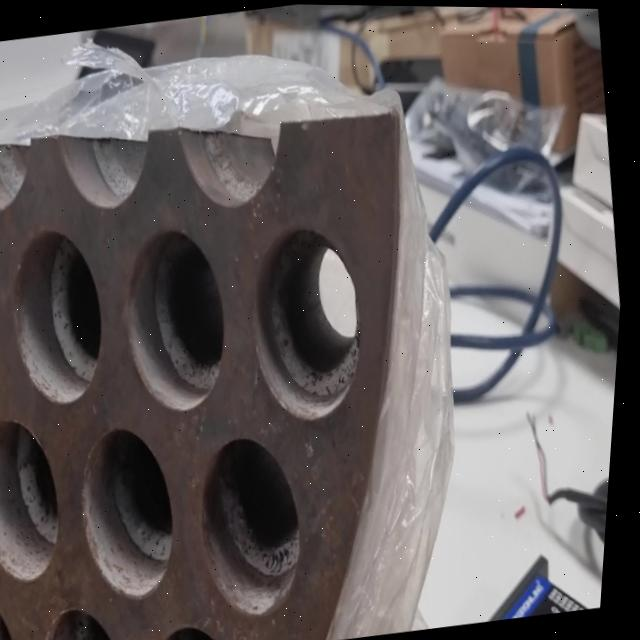Hole: (243, 217, 383, 426), (113, 221, 246, 418), (194, 430, 324, 623), (73, 420, 196, 607), (2, 222, 121, 412), (0, 413, 80, 587), (42, 599, 138, 640), (156, 614, 251, 640), (0, 227, 12, 396), (0, 584, 35, 640)
